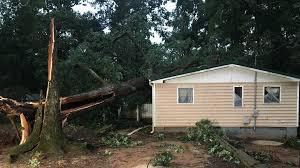minor: (150, 50, 300, 139)
